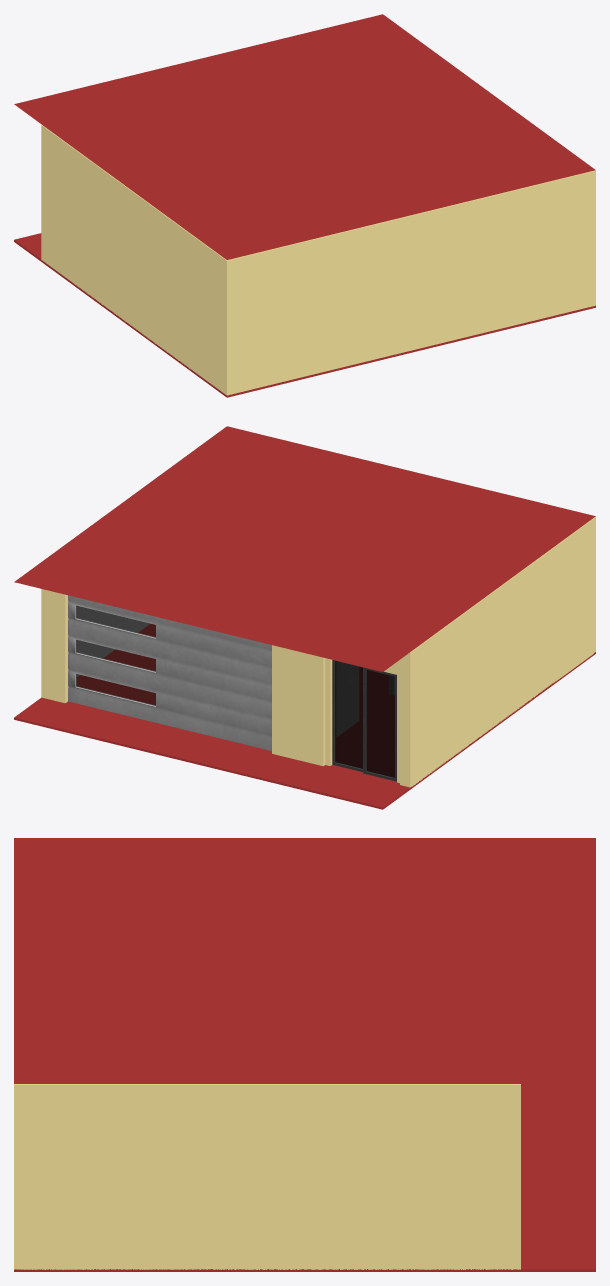
The model's file is cabin copy.glb.
3 renders of one model, top to bottom at view 1: azimuth 30°, elevation 25°; view 2: azimuth 150°, elevation 25°; view 3: azimuth 270°, elevation 25°, orthographic. The views are drawn at different scales.
Parts seen in each view (by area): view 1: polySurface1_lambert2_0.001, polySurface5_standardSurface1_0, polySurface5_lambert2_0; view 2: polySurface1_lambert2_0.001, polySurface5_standardSurface1_0, gar_door_phongE3_0, polySurface1_lambert2_0, gar_door_glass_0, window6_glass_0, window7_glass_0, polySurface5_lambert2_0, polySurface3_lambert3_0, polySurface5_phong3_0, window6_phongE2_0, window7_phongE2_0; view 3: polySurface1_lambert2_0.001, polySurface5_standardSurface1_0, polySurface1_lambert2_0, polySurface5_lambert2_0.
Boxes of the visible parts, x1,y1,x2,y2 form: polySurface1_lambert2_0.001: (14, 14, 595, 259); polySurface5_standardSurface1_0: (41, 125, 595, 395); polySurface5_lambert2_0: (14, 240, 595, 397); polySurface1_lambert2_0.001: (14, 426, 595, 671); polySurface5_standardSurface1_0: (41, 517, 595, 787); gar_door_phongE3_0: (68, 595, 271, 750); polySurface1_lambert2_0: (14, 624, 409, 807); gar_door_glass_0: (76, 605, 155, 705); window6_glass_0: (366, 670, 394, 777); window7_glass_0: (335, 661, 362, 768); polySurface5_lambert2_0: (14, 652, 595, 809); polySurface3_lambert3_0: (337, 662, 394, 736); polySurface5_phong3_0: (77, 606, 149, 676); window6_phongE2_0: (363, 667, 396, 781); window7_phongE2_0: (332, 660, 363, 771); polySurface1_lambert2_0.001: (14, 838, 595, 1083); polySurface5_standardSurface1_0: (14, 1084, 520, 1269); polySurface1_lambert2_0: (521, 1084, 595, 1268); polySurface5_lambert2_0: (14, 1269, 595, 1271).
Bounding box in the file's own units: 0.24 × 0.086 × 0.24.
9 materials, 6 textured.
